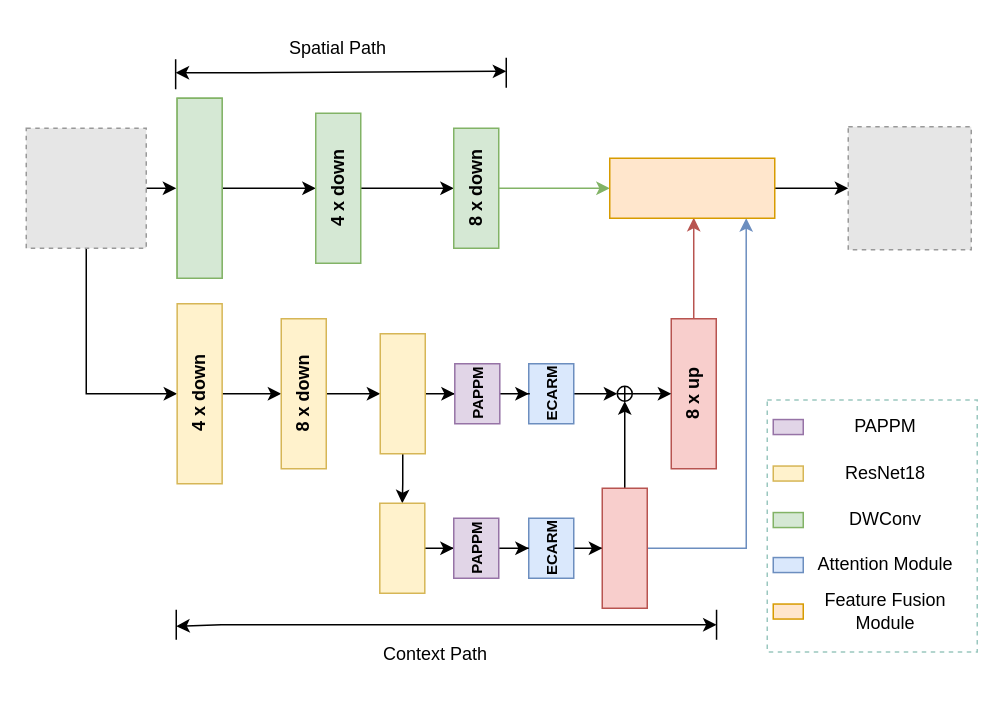
The diagram is 1004 pixels wide and 704 high, and some of its shapes have lost their labels. Grey dashed boxes stand in for pictures. Here are the shapes that lost their labels. From the top down, the centre of each, then its label:
At point 199,187: "2 x down".
At point 691,187: "FFM".
At point 402,393: "16 x down".
At point 401,547: "32 x down".
At point 624,547: "16 x up".
